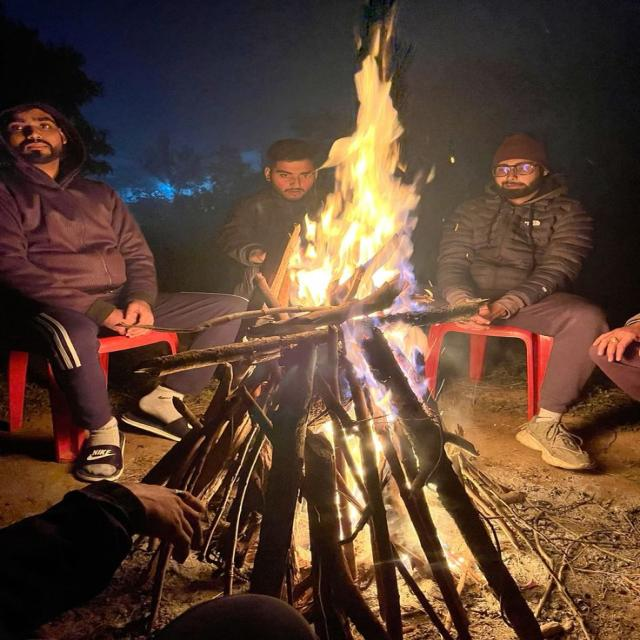fire: (268, 6, 431, 418), (311, 419, 389, 529)
